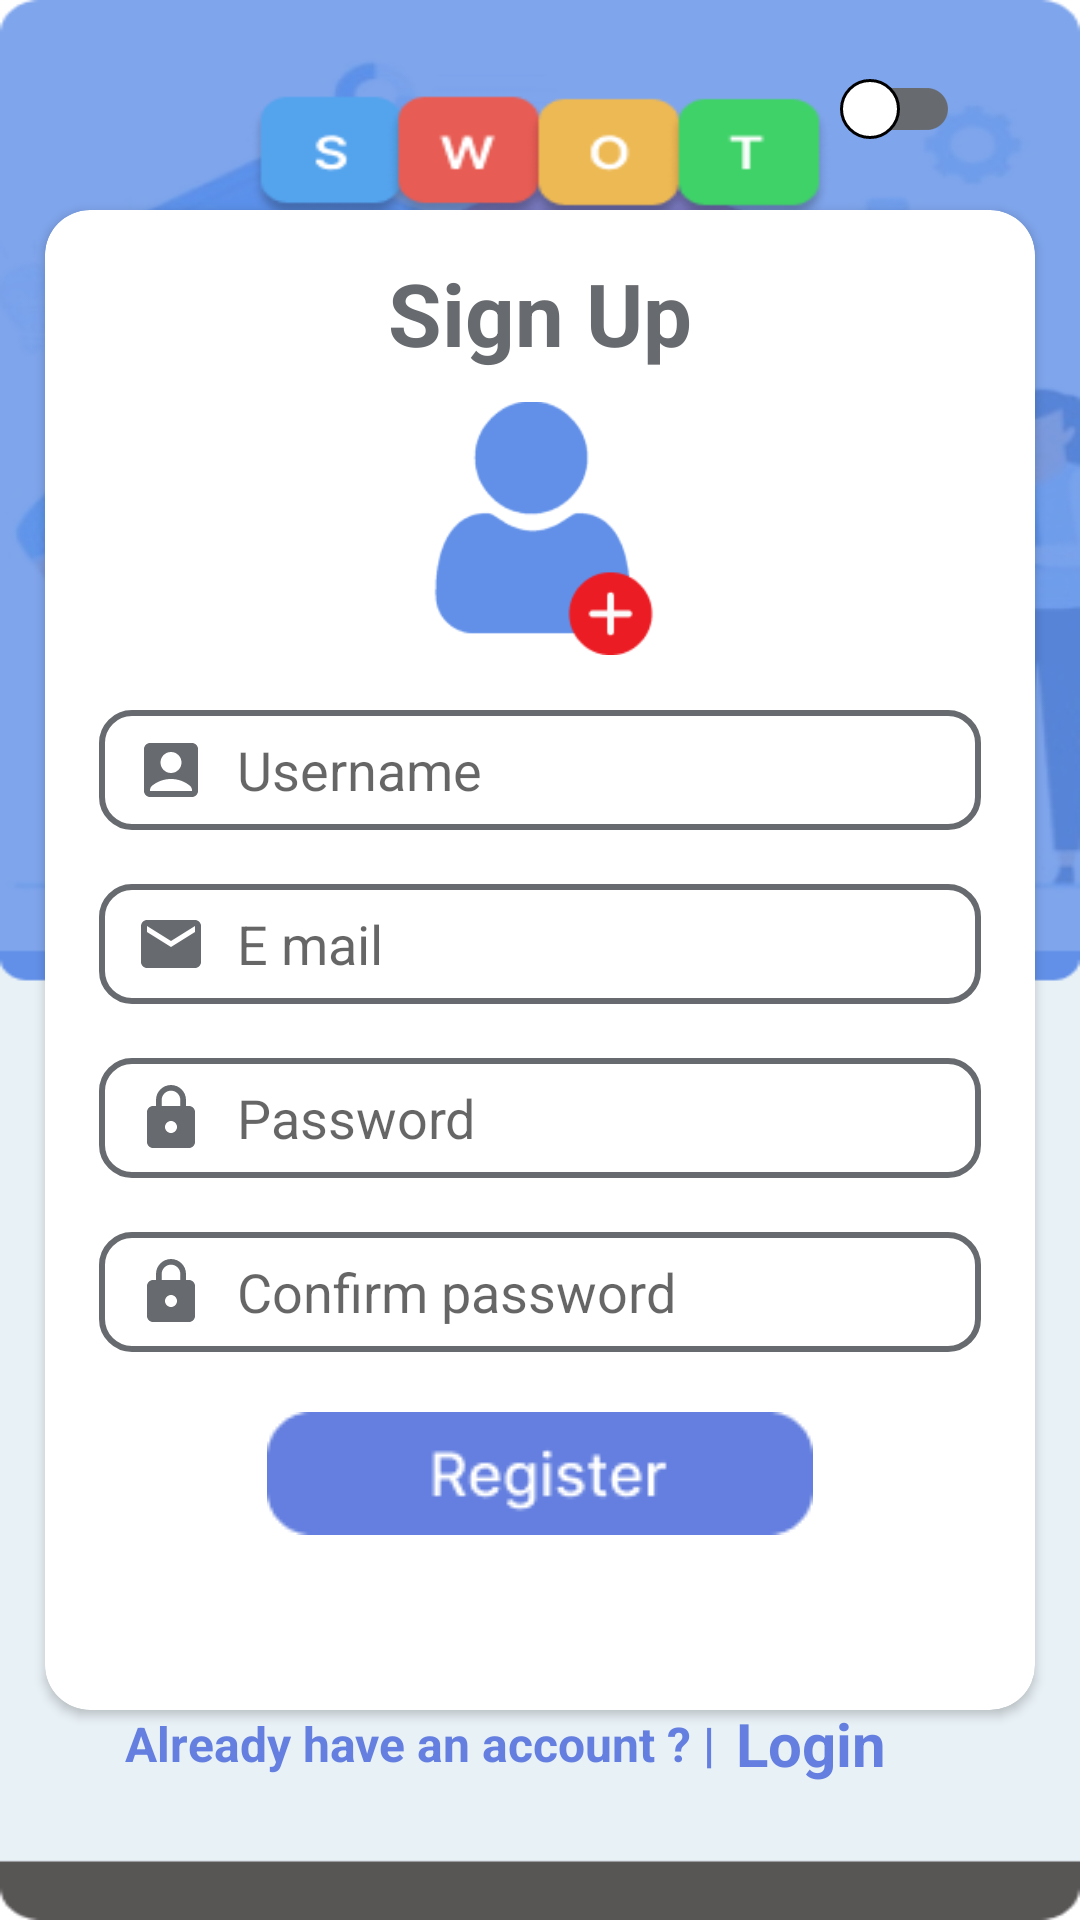

Locate icon controls on the screen. Image size 1080*1920, boxes as (x1, y1, x2, y2).
regprofile: (435, 402, 653, 655)
